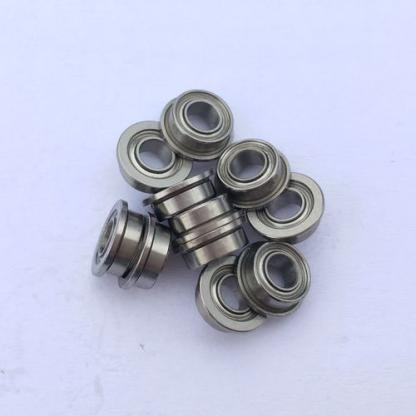FOD: (193, 252, 273, 335), (237, 240, 315, 320), (158, 86, 236, 164), (214, 135, 294, 211), (115, 119, 199, 191), (247, 170, 327, 245), (88, 195, 146, 284), (140, 164, 218, 224), (119, 212, 174, 297), (176, 214, 249, 273)
